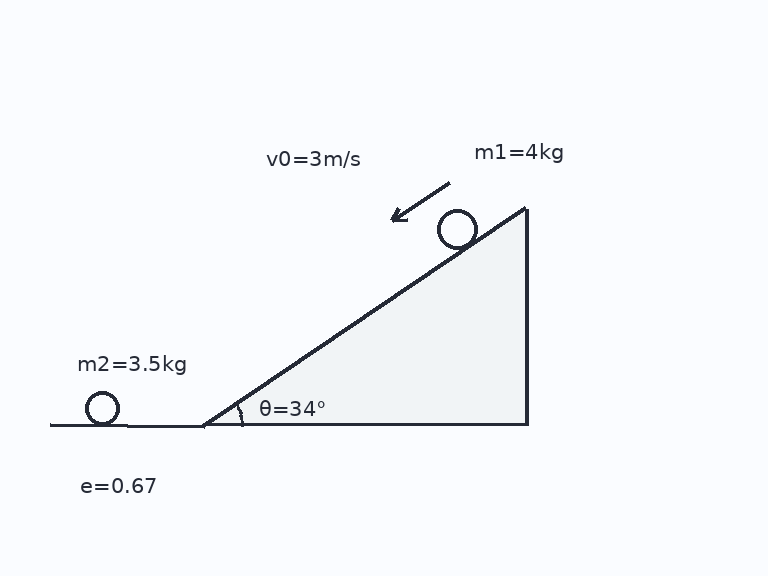ball: (435, 207, 479, 251), (83, 389, 121, 427)
ramp: (200, 205, 527, 427)
